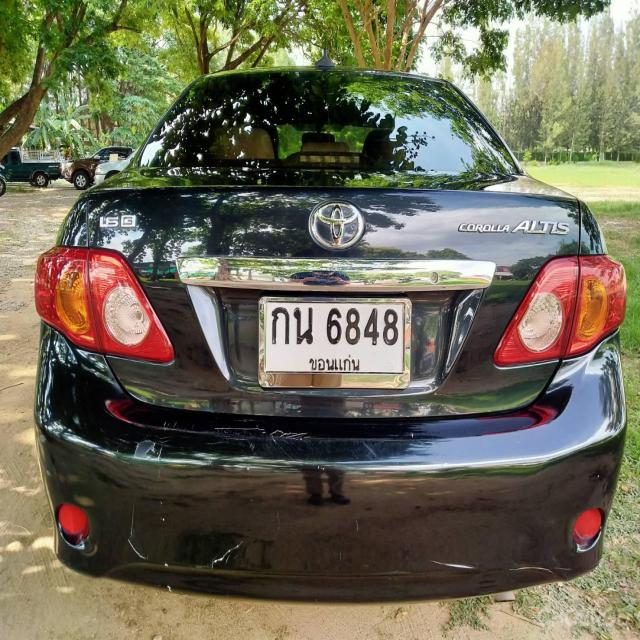license_plate: (257, 293, 411, 390)
